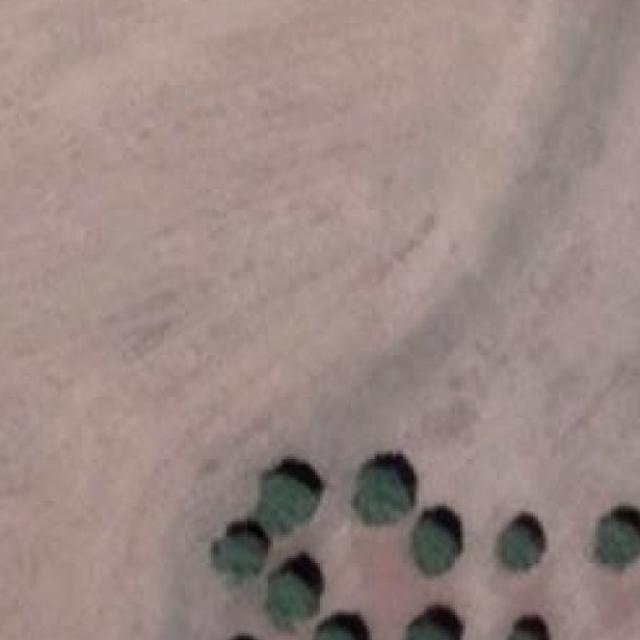Tree: (254, 470, 312, 535), (265, 568, 315, 624), (354, 472, 408, 522), (408, 522, 458, 574), (595, 522, 640, 572), (499, 529, 540, 568), (213, 535, 255, 571), (398, 620, 455, 640), (310, 625, 360, 640), (502, 627, 542, 640)
